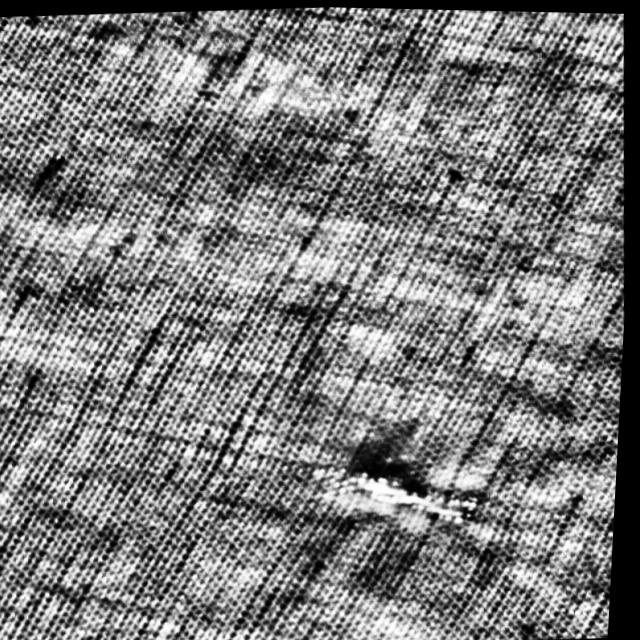Hole: (310, 445, 490, 540)
